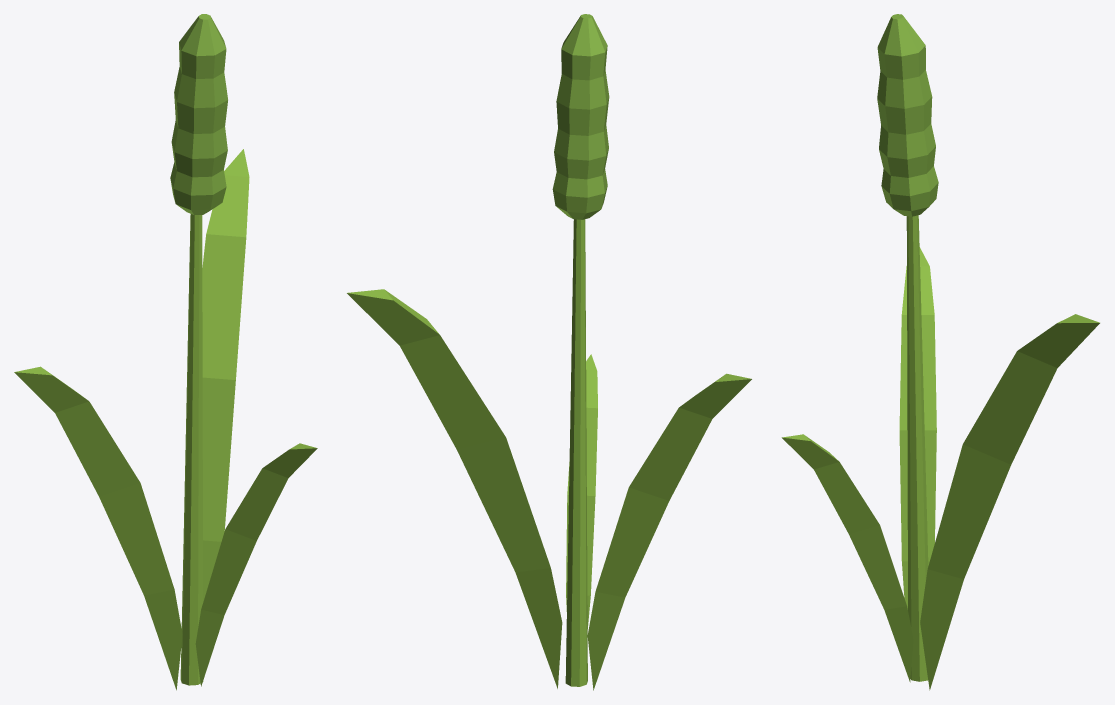
The model's file is reeds_03.fbx.
3 renders of one model, left to right at view 1: azimuth 30°, elevation 25°; view 2: azimuth 150°, elevation 25°; view 3: azimuth 270°, elevation 25°, orthographic. The views are drawn at different scales.
Visible parts, largest first — view 1: reeds_03; view 2: reeds_03; view 3: reeds_03.
Part boxes in pixels (left/top/right/bottom): reeds_03: left=14, top=14, right=317, bottom=690; reeds_03: left=347, top=14, right=751, bottom=690; reeds_03: left=781, top=14, right=1099, bottom=690.
Size of the model in its own units: 94.38 by 190 by 82.24.
